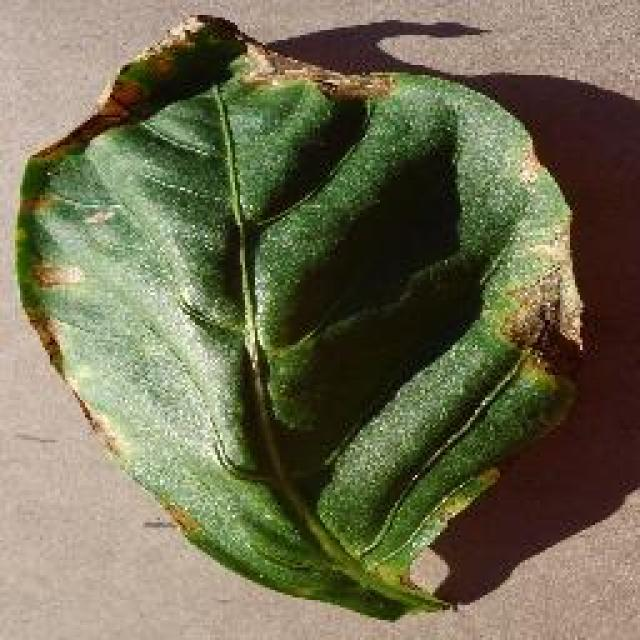Chilli_Bacterial_Spot: (10, 10, 590, 620), (497, 270, 565, 352), (27, 255, 85, 293), (105, 75, 145, 110), (140, 48, 178, 82), (80, 202, 118, 230)
